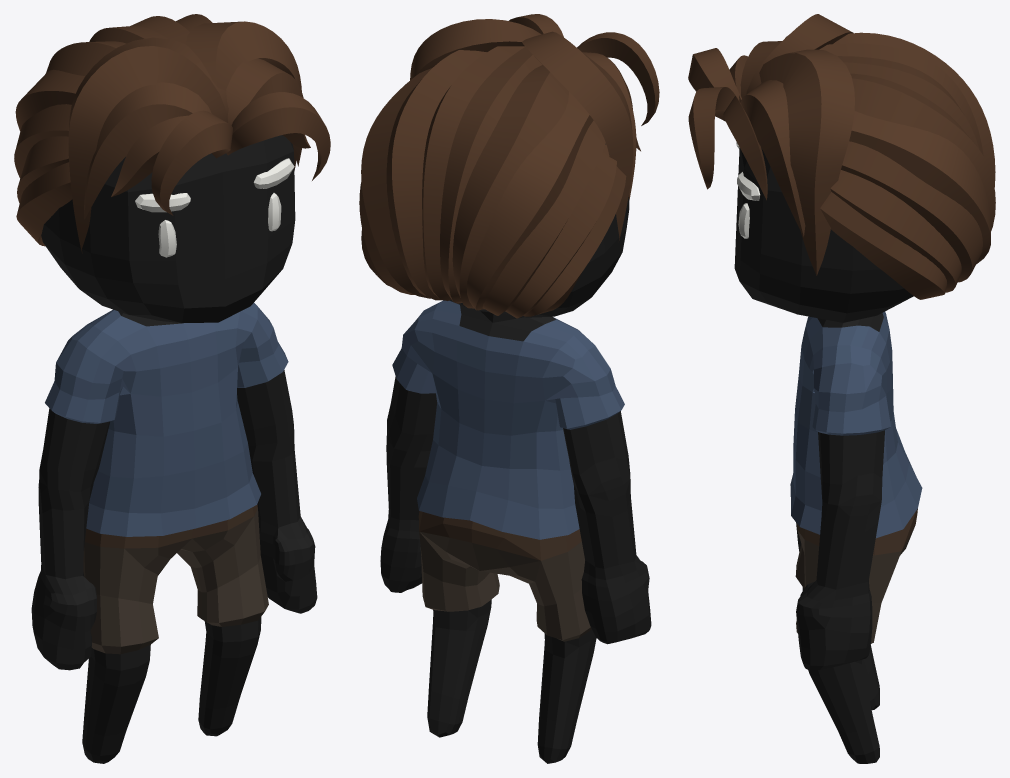
Rendered from casual-male-a9f016deb1.glb.
3 views of the same model, side by side, from view 1: azimuth 30°, elevation 25°; view 2: azimuth 150°, elevation 25°; view 3: azimuth 270°, elevation 25° (orthographic). The views are drawn at different scales.
Parts seen in each view (by area): view 1: Casual_Male.obj; view 2: Casual_Male.obj; view 3: Casual_Male.obj.
Boxes of the visible parts, box(x1,y1,x2,y2) form: Casual_Male.obj: box(14, 14, 330, 763); Casual_Male.obj: box(359, 14, 659, 763); Casual_Male.obj: box(688, 14, 995, 763).
Size of the model in its own units: 1.28 by 3.29 by 1.31.
